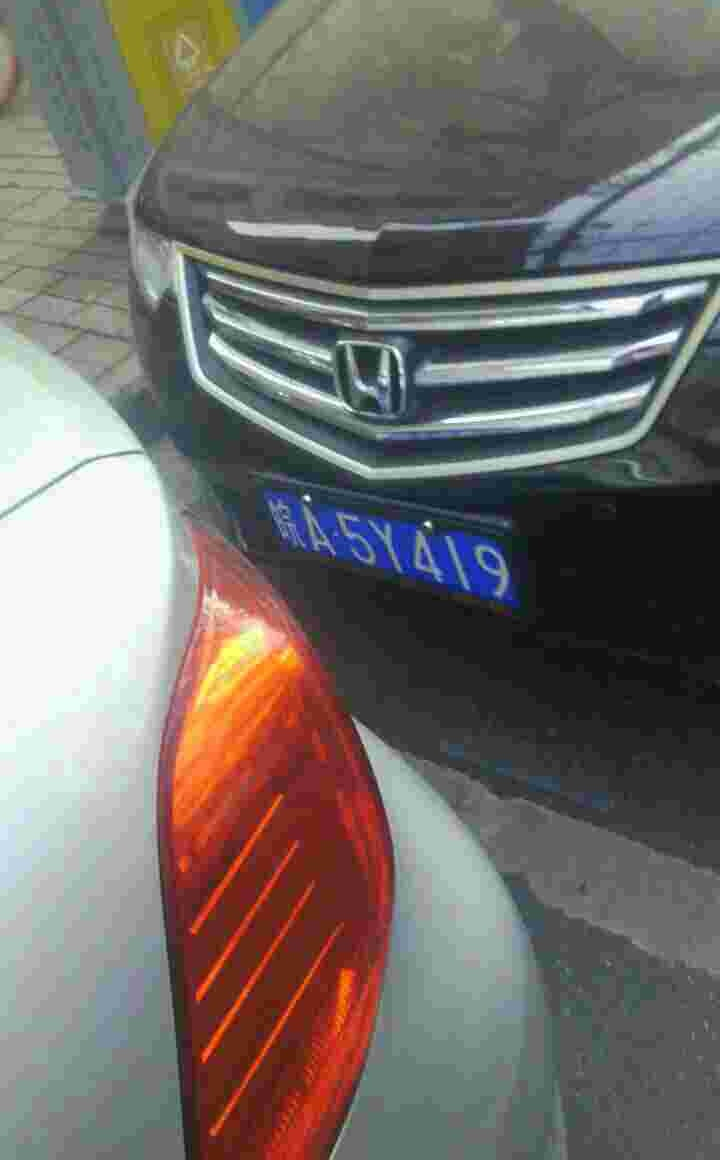license_plate: (260, 482, 517, 601)
